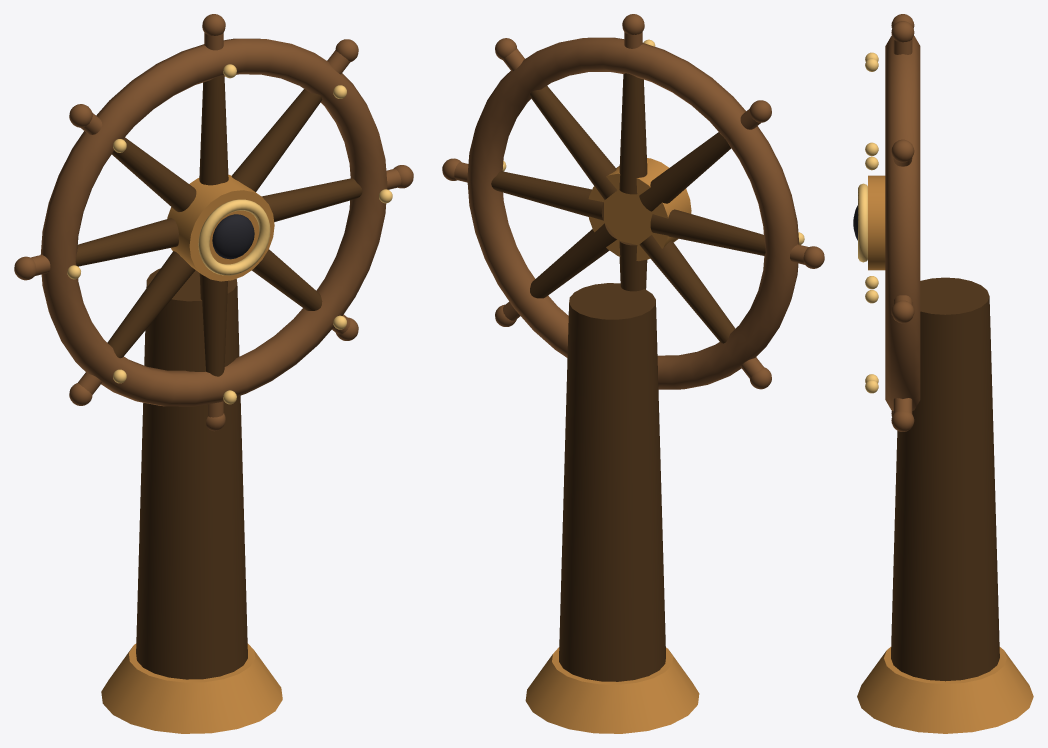
Rendered from mia-ship_wheel.glb.
The picture shows the model from 3 angles, left to right: view 1: azimuth 30°, elevation 25°; view 2: azimuth 150°, elevation 25°; view 3: azimuth 270°, elevation 25°; orthographic projection. The views are drawn at different scales.
Parts seen in each view (by area): view 1: Body_wood, Body_oak, Body_brass, Body_trim, Body_iron; view 2: Body_wood, Body_oak, Body_brass; view 3: Body_wood, Body_oak, Body_brass, Body_trim.
Part boxes in pixels (<box>): Body_wood: <box>75,76,362,679</box>; Body_oak: <box>14,14,413,431</box>; Body_brass: <box>101,174,282,733</box>; Body_trim: <box>67,64,392,404</box>; Body_iron: <box>212,214,254,259</box>; Body_wood: <box>491,73,765,681</box>; Body_oak: <box>442,14,824,389</box>; Body_brass: <box>525,158,699,733</box>; Body_wood: <box>891,277,999,681</box>; Body_oak: <box>885,14,920,431</box>; Body_brass: <box>857,175,1033,733</box>; Body_trim: <box>858,52,878,393</box>.
Size of the model in its own units: 1.04 by 1.75 by 0.425.
